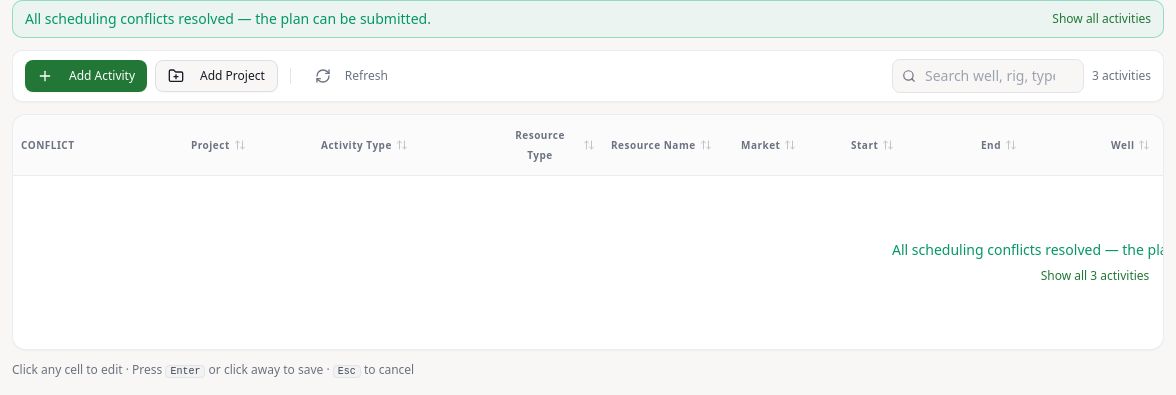
Test: Conflicts queue empty state › celebrates a cleared queue instead of claiming there are no activities
This screenshot has width=1176, height=395.
expect the element with test id "conflicts-resolved" shows "All scheduling conflicts resolved": met, box [892,240,1164,259]
Click the button "Show all 3 activities": (1095, 276) [1041,268,1149,284]
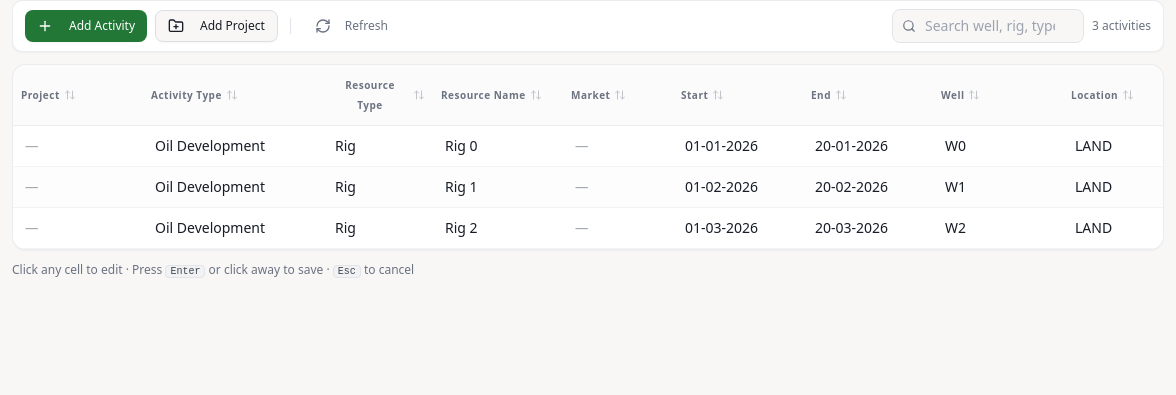
expect the button "W0" is shown: met, box [937,132,1059,160]
